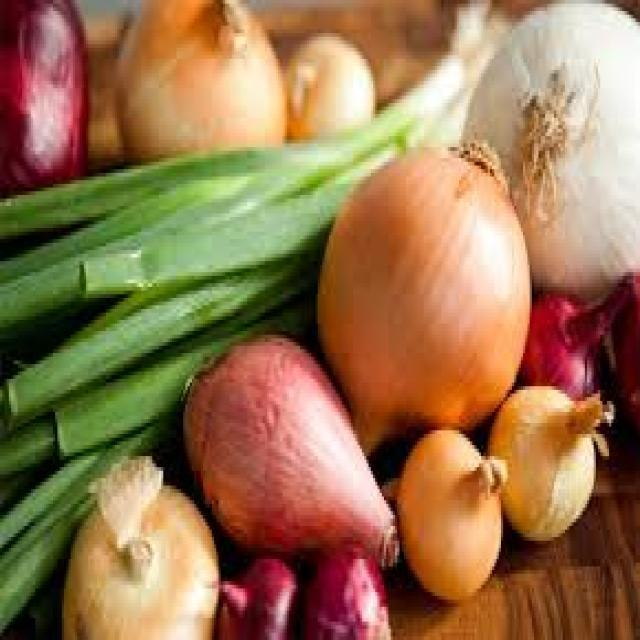onion: (298, 120, 512, 463), (178, 303, 406, 583), (451, 1, 640, 306), (113, 0, 308, 189), (51, 447, 234, 640), (376, 404, 528, 596), (488, 360, 591, 578), (275, 13, 374, 154)
